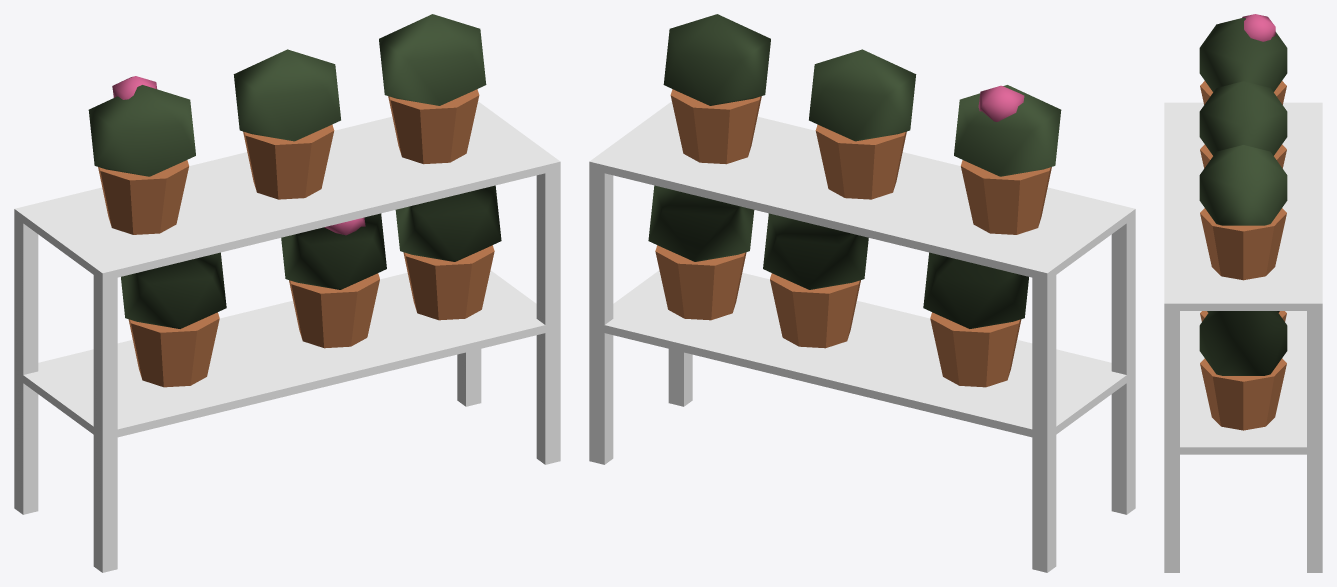
The model's file is scatter3.fbx.
3 views of the same model, side by side, from view 1: azimuth 30°, elevation 25°; view 2: azimuth 150°, elevation 25°; view 3: azimuth 270°, elevation 25° (orthographic). The views are drawn at different scales.
Parts seen in each view (by area): view 1: a2000/400/scatter3; view 2: a2000/400/scatter3; view 3: a2000/400/scatter3.
Boxes of the visible parts, box(x1,y1,x2,y2) form: a2000/400/scatter3: box(14, 14, 560, 572); a2000/400/scatter3: box(589, 14, 1135, 572); a2000/400/scatter3: box(1164, 14, 1322, 572).
Size of the model in its own units: 1.2 by 1.1 by 0.4.
